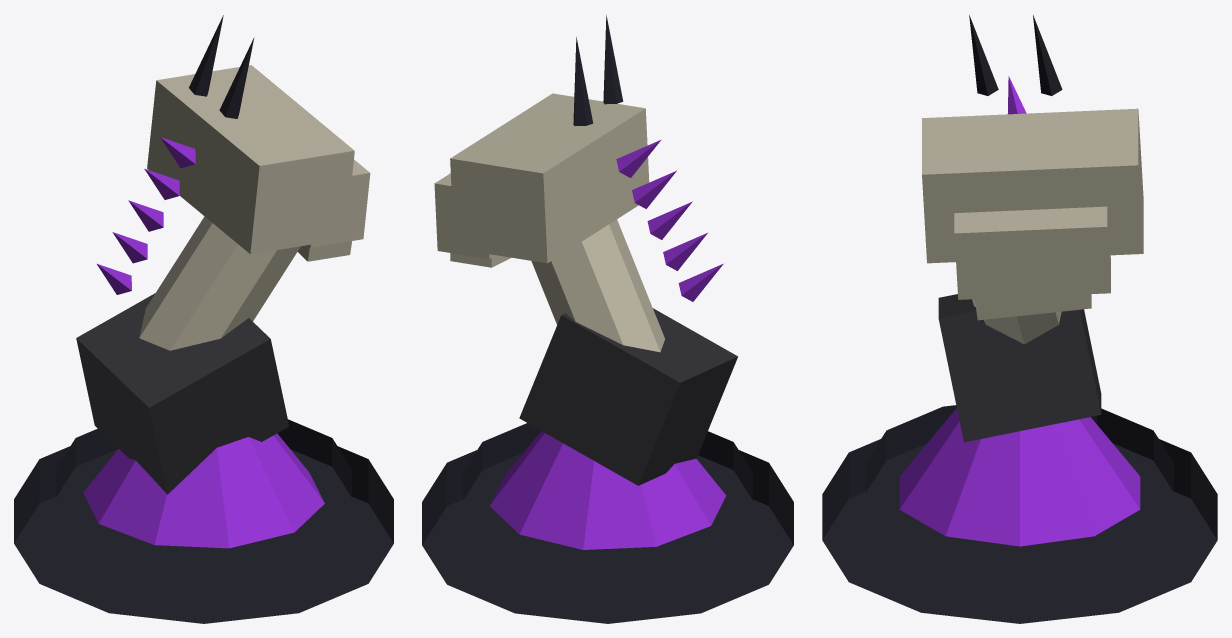
The model's file is knight_spectral_horse.obj.
The picture shows the model from 3 angles, left to right: view 1: azimuth 30°, elevation 25°; view 2: azimuth 150°, elevation 25°; view 3: azimuth 270°, elevation 25°; orthographic projection. The views are drawn at different scales.
Visible parts, largest first — view 1: knight_spectral_horse; view 2: knight_spectral_horse; view 3: knight_spectral_horse.
Boxes of the visible parts, x1,y1,x2,y2 form: knight_spectral_horse: (14,15,393,623); knight_spectral_horse: (422,15,793,623); knight_spectral_horse: (822,15,1217,623).
Bounding box in the file's own units: 0.62 × 0.9341 × 0.62.
